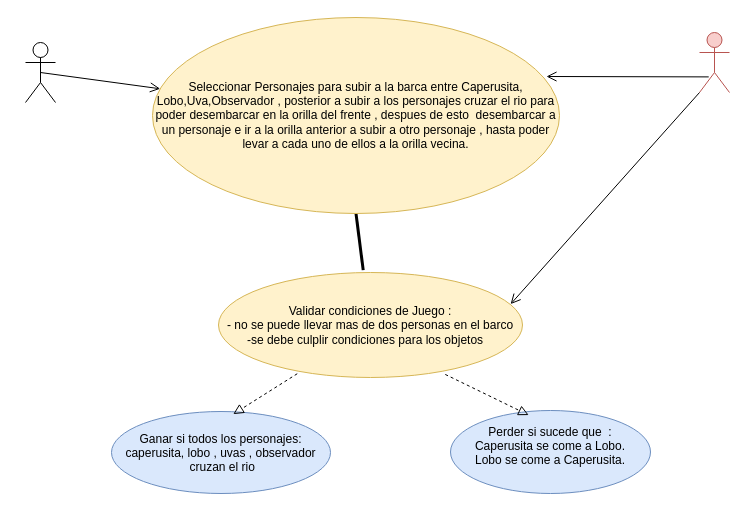
The diagram is 755 pixels wide and 511 high, and some of its shapes have lost their labels. Each missing label, with the centre of its shape:
"ApJuego" belongs at point (714, 62).
"Jugador" belongs at point (40, 72).
